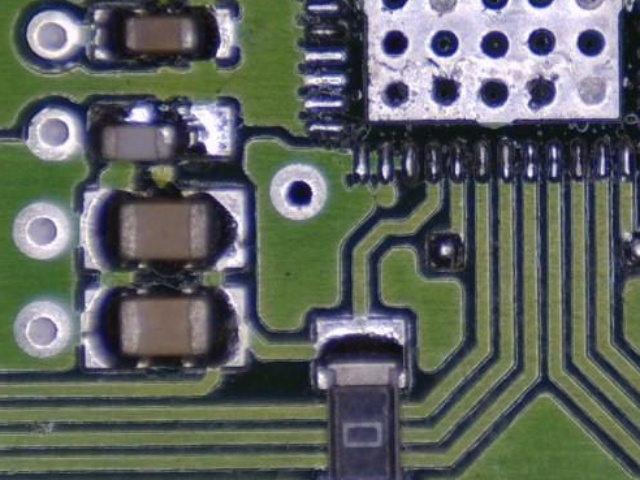pcb_defect: (85, 101, 234, 161), (85, 102, 234, 161)
